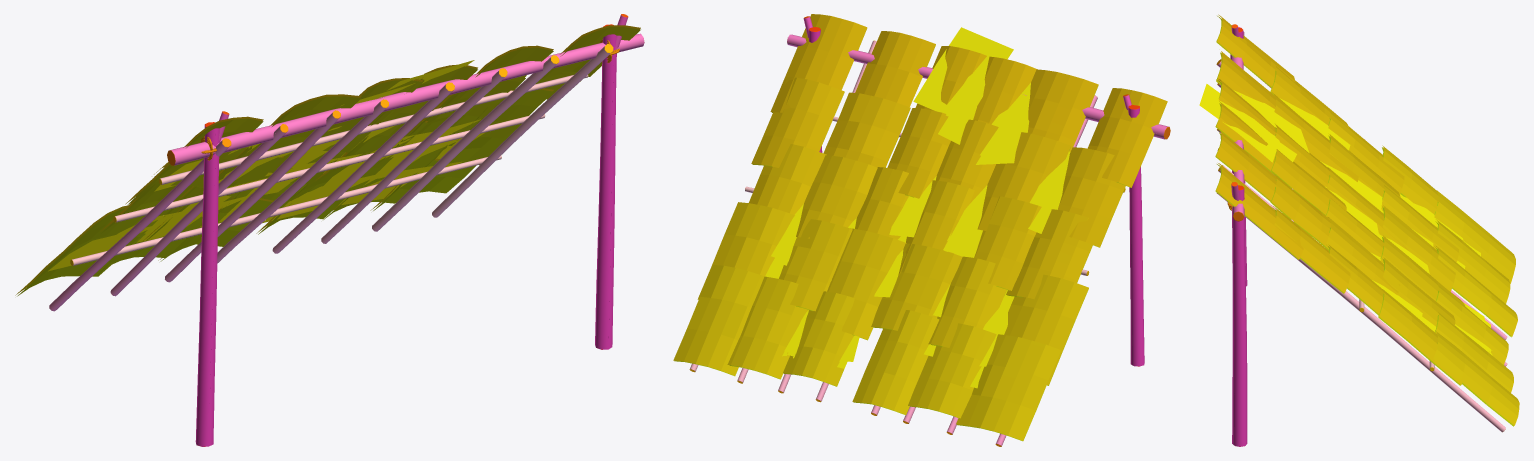
Rendered from camp_lean_to.glb.
The picture shows the model from 3 angles, left to right: view 1: azimuth 30°, elevation 25°; view 2: azimuth 150°, elevation 25°; view 3: azimuth 270°, elevation 25°; orthographic projection. The views are drawn at different scales.
Parts seen in each view (by area): view 1: Model; view 2: Model; view 3: Model.
Part boxes in pixels (box(x1,y1,x2,y2)): Model: box(15, 14, 644, 446); Model: box(673, 14, 1170, 446); Model: box(1199, 14, 1519, 446).
Bounding box in the file's own units: 3.3 × 2.3 × 2.4.
